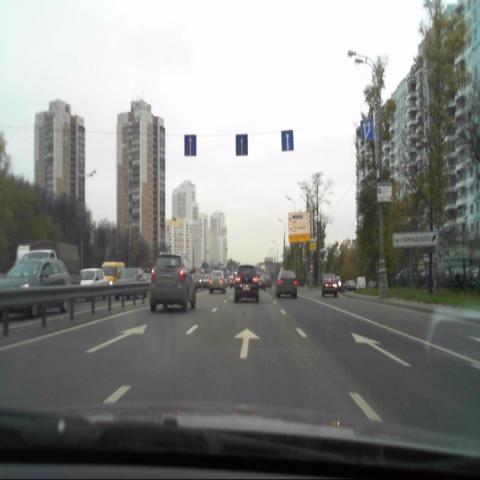5_15_2: (281, 130, 294, 152), (184, 135, 196, 157), (235, 135, 248, 155)
5_15_3: (362, 119, 374, 141)
